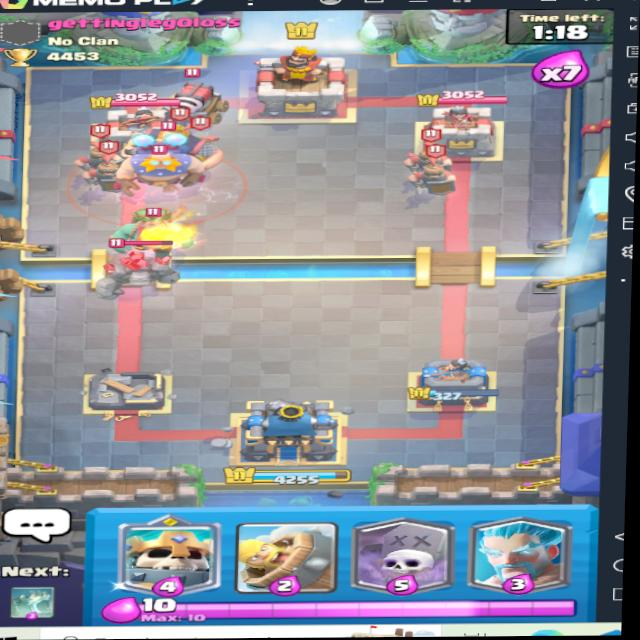electro-giant: (107, 132, 216, 197)
goblin-giant: (109, 196, 191, 255)
golem: (100, 240, 191, 296)
royal-giant: (133, 107, 214, 167)
royal-recruits: (401, 123, 464, 180), (71, 117, 127, 174), (84, 139, 128, 191), (413, 148, 456, 198)
sparky: (156, 67, 231, 126)
